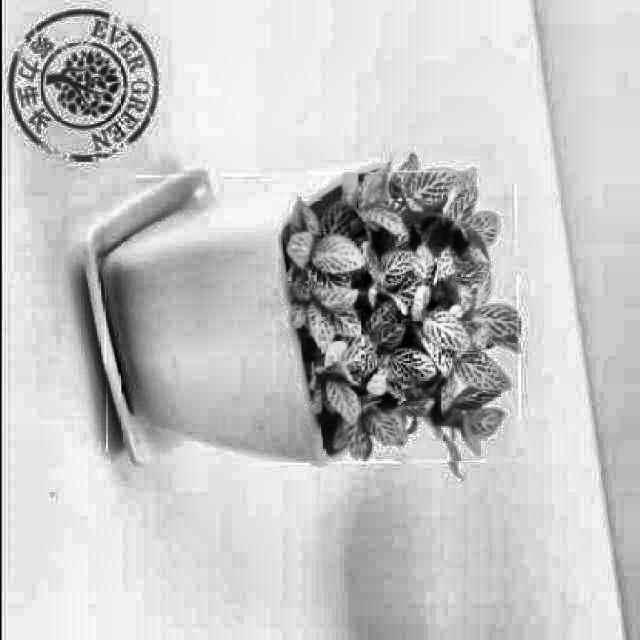plants: (102, 172, 516, 466)
